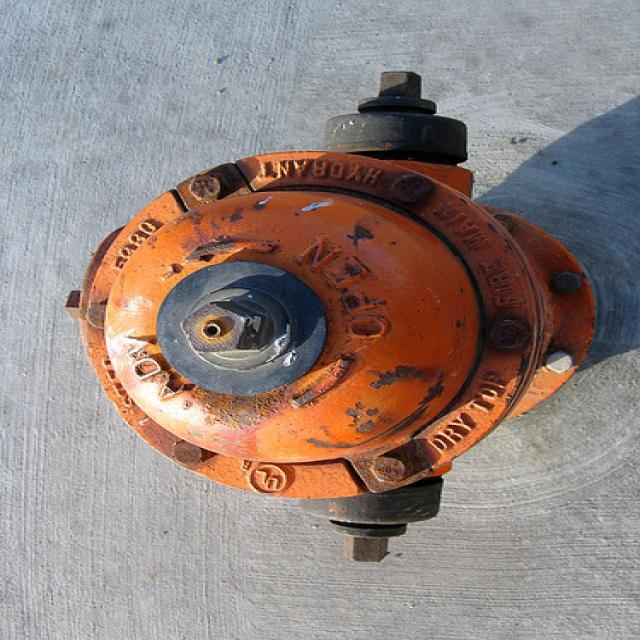fire_hydrant: (67, 72, 602, 564)
